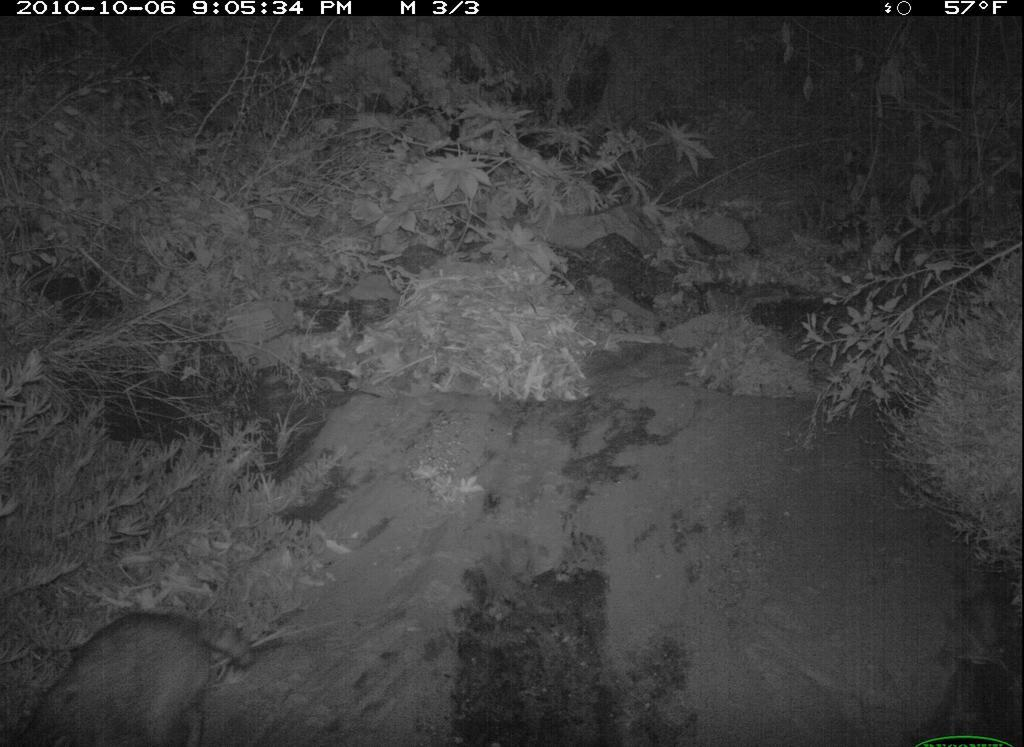raccoon: (3, 601, 260, 744)
